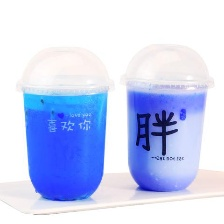glass: (11, 38, 116, 212), (116, 39, 217, 201)
